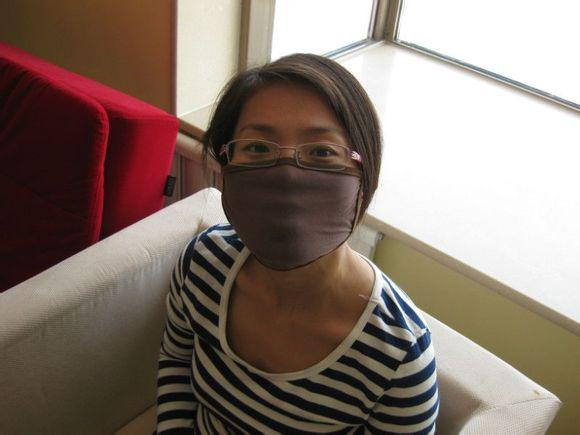OK: (222, 121, 364, 260)
